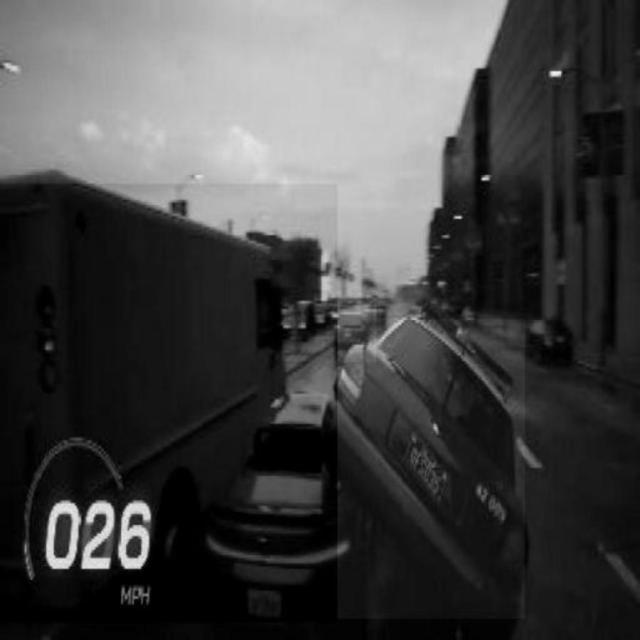accident: (0, 184, 337, 622), (208, 319, 525, 619)
vehicle: (322, 305, 377, 362)
